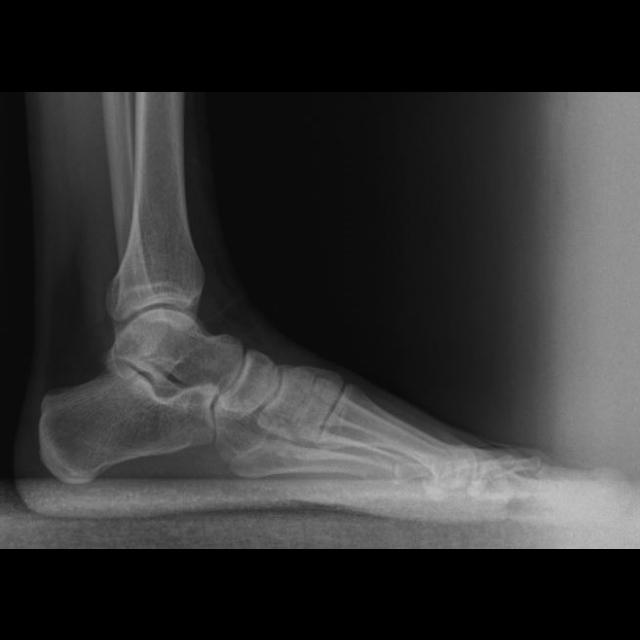a: (39, 362, 220, 488)
b: (217, 348, 282, 415)
c: (321, 383, 480, 486)
